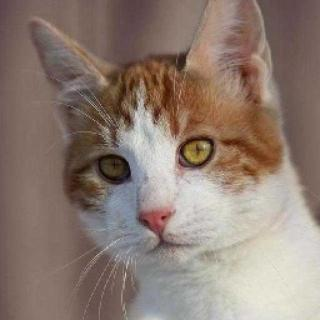cat: (33, 12, 297, 275)
nose: (129, 190, 185, 238)
